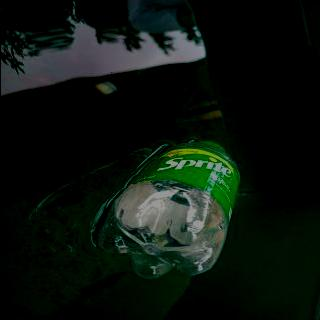bottle: (92, 139, 243, 282)
